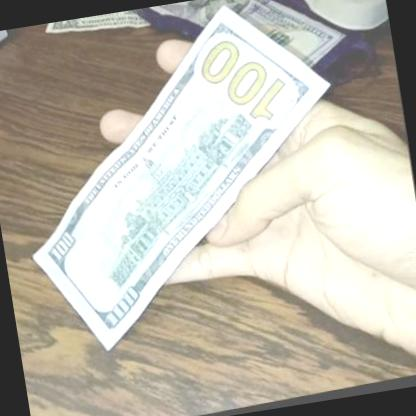one_hundred-back: (0, 0, 373, 363)
